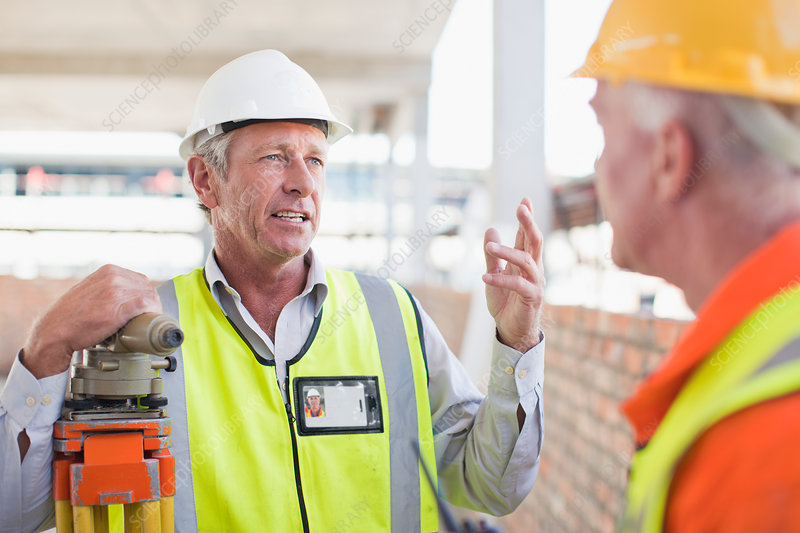With Helmet: (554, 1, 800, 287), (171, 45, 361, 268)
